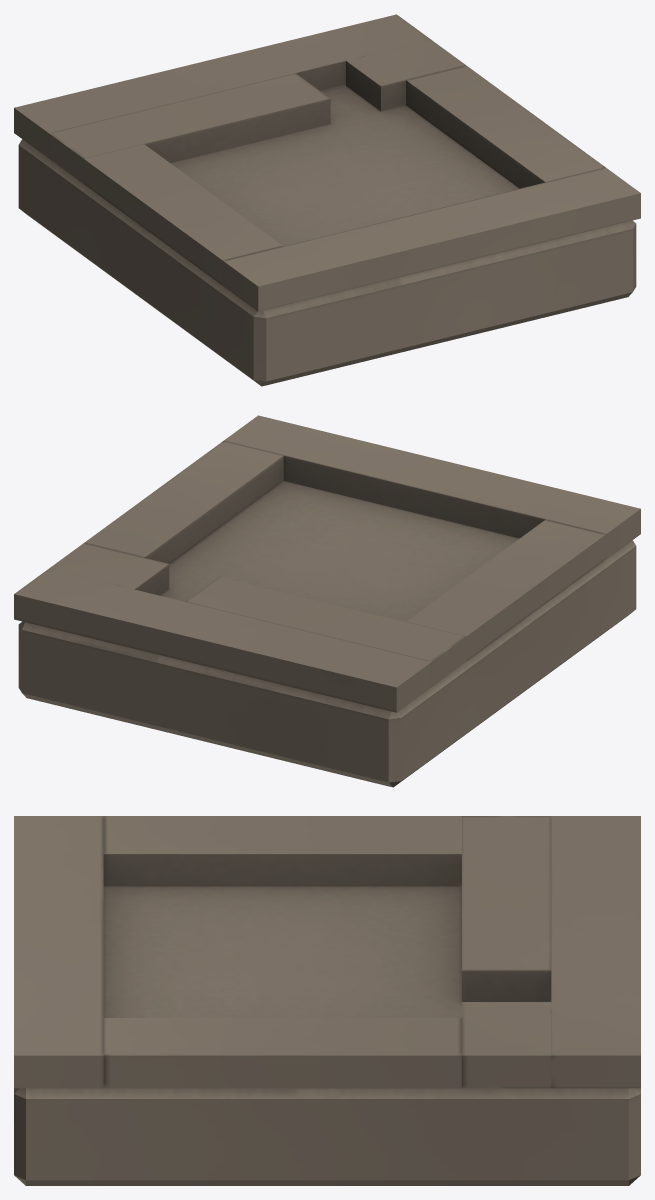
File: RenewableEnergy_BatteryPlateMoldUnfired.fbx
The picture shows the model from 3 angles, top to bottom: view 1: azimuth 30°, elevation 25°; view 2: azimuth 150°, elevation 25°; view 3: azimuth 270°, elevation 25°; orthographic projection. The views are drawn at different scales.
Parts seen in each view (by area): view 1: BatteryPlateMoldUnfired; view 2: BatteryPlateMoldUnfired; view 3: BatteryPlateMoldUnfired.
Part boxes in pixels (x1,y1,x2,y2): BatteryPlateMoldUnfired: (14, 14, 640, 386); BatteryPlateMoldUnfired: (14, 415, 640, 787); BatteryPlateMoldUnfired: (14, 816, 640, 1185).
Bounding box in the file's own units: 0.19 × 0.05 × 0.21.
